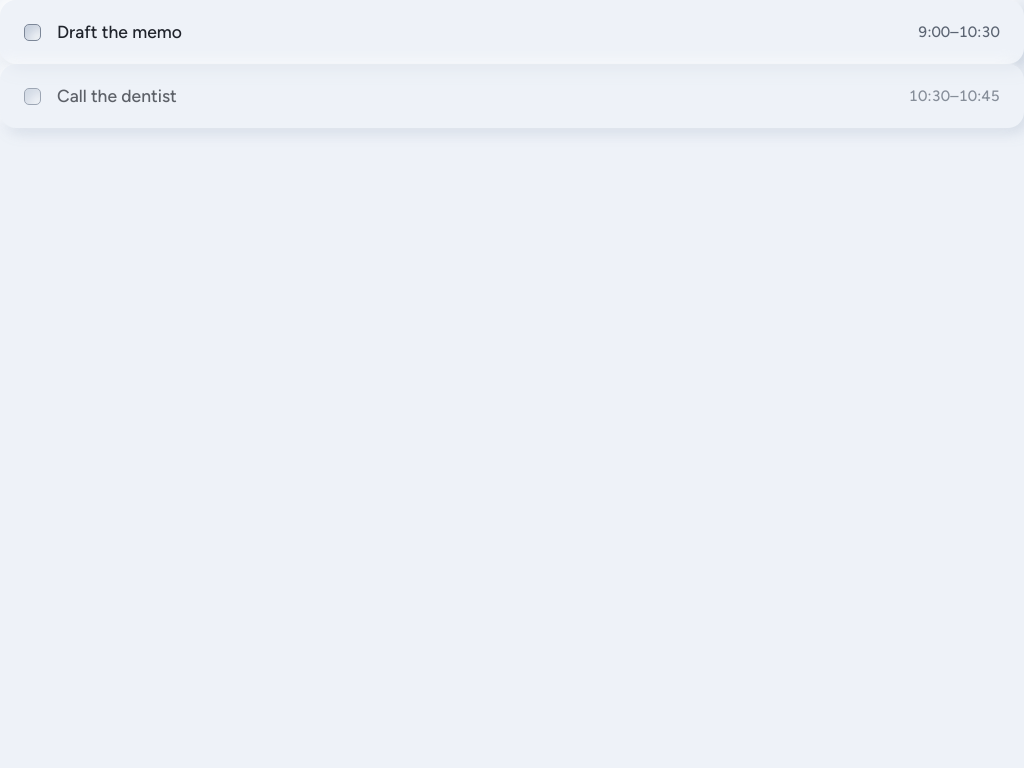
Scenario: PlanChecklist › a past, incomplete row can be checked off (Ruling R18)
This screenshot has width=1024, height=768.
Click the checkbox named "Call the dentist": (32, 96) [16,80,48,112]
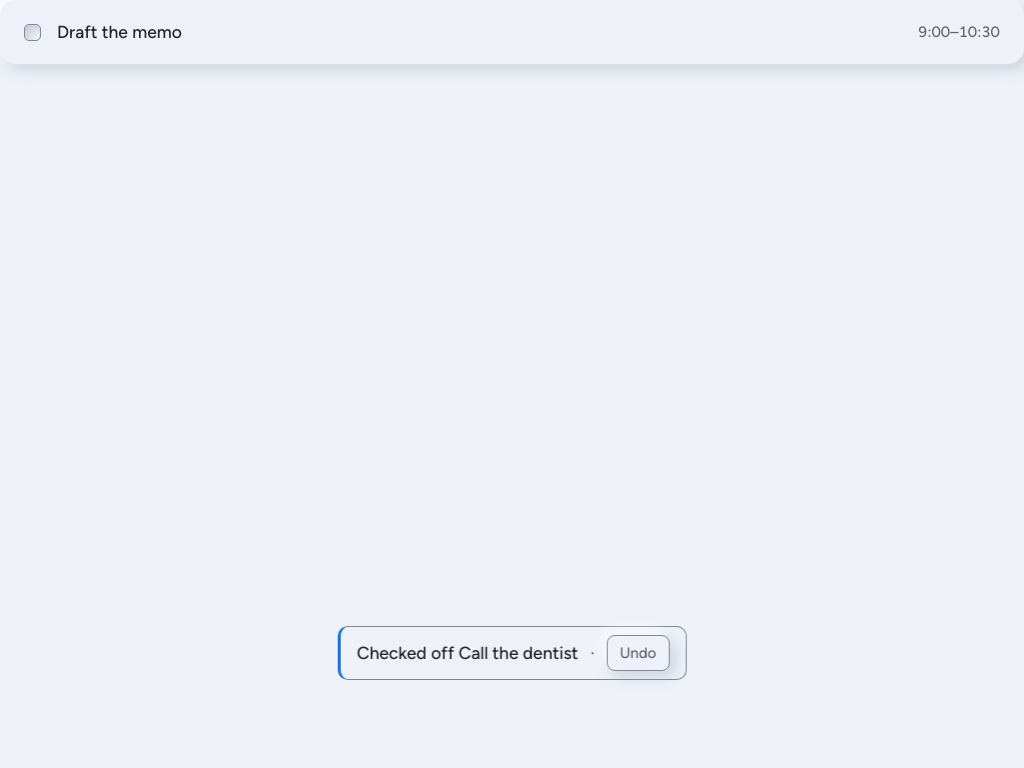
Result: the message with test id "undo-toast" shows "Checked off Call the dentist" at [357,642,578,663]
